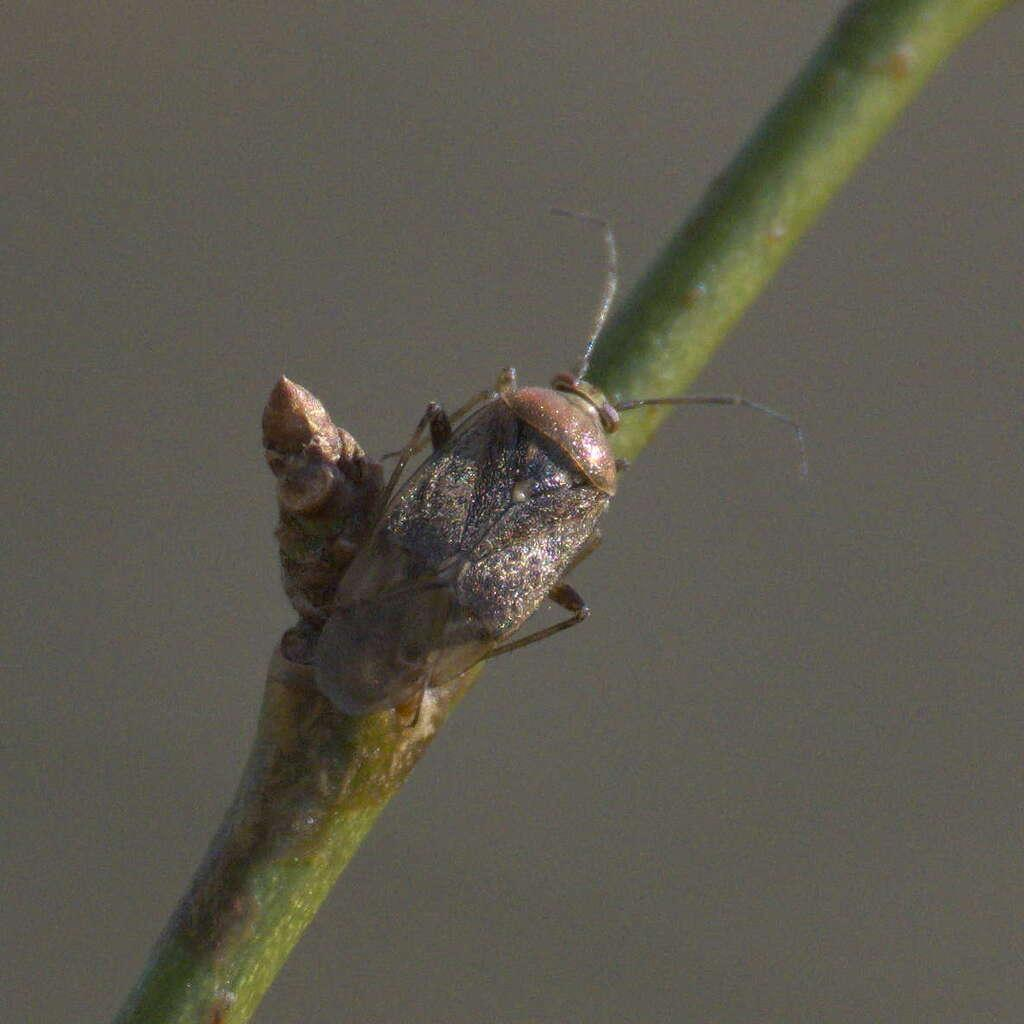plant_bugs: (223, 176, 837, 806)
